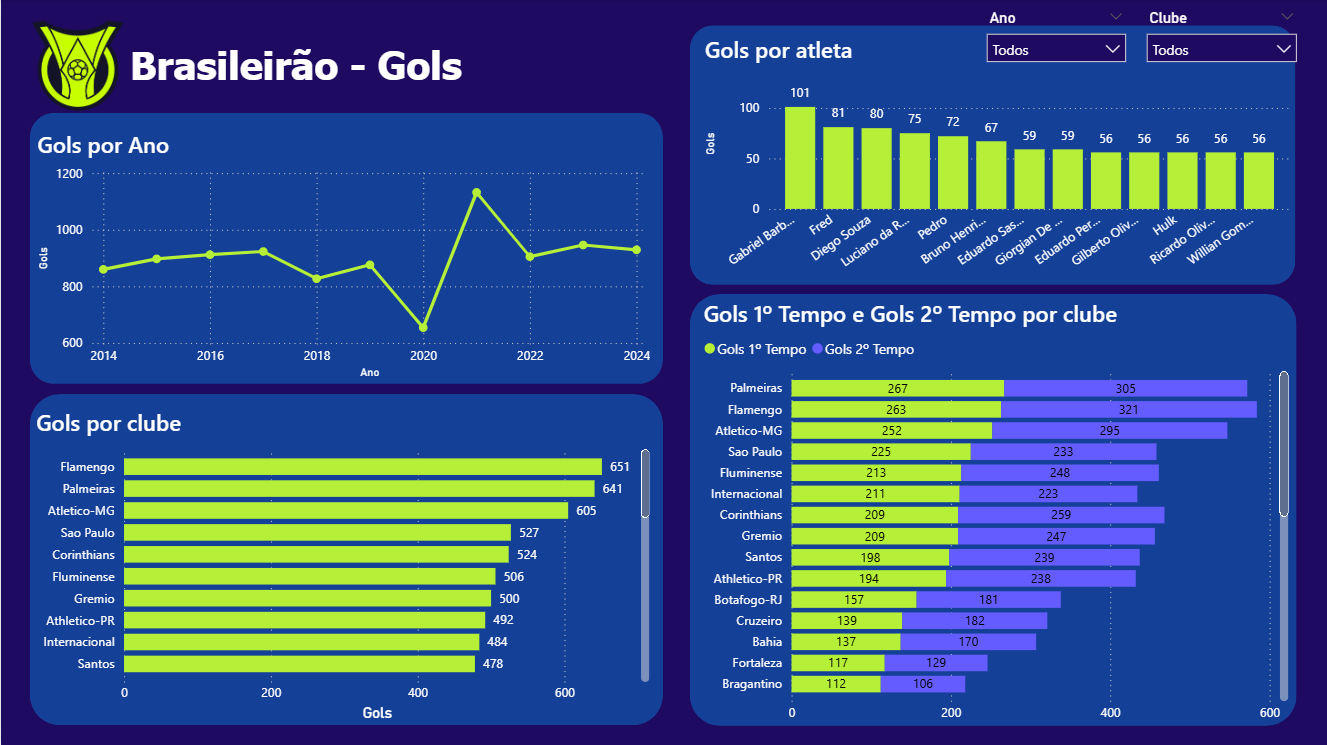

The page's visual inventory and layout, read from the dashboard file:
{"tool":"powerbi","page":{"name":"Gols","canvas":[1280,720],"ordinal":0},"visuals":[{"type":"shape","box":[664.8,284.5,585.9,416.9],"z":0},{"type":"shape","box":[664.8,25.4,584.5,250.7],"z":1000},{"type":"shape","box":[28.2,381.7,611.3,319.7],"z":2000},{"type":"shape","box":[28.2,109.9,611.3,262],"z":3000},{"type":"lineChart","fields":{"Category":["DimData.Ano"],"Y":["Medidas.Total Gols"]},"box":[29.6,125.4,601.4,246.5],"z":4000},{"type":"barChart","fields":{"Y":["Medidas.Gols"],"Category":["DimClube.clube"]},"box":[29,393.3,602,308.8],"z":5000},{"type":"columnChart","fields":{"Y":["Medidas.Gols"],"Category":["DimAtletaGols.atleta"]},"box":[674.7,33.8,574.6,238],"z":6000},{"type":"barChart","fields":{"Y":["Medidas.Gols 1º Tempo","Medidas.Gols 2º Tempo"],"Category":["DimClube.clube"]},"box":[673.2,287.8,574.4,418.3],"z":7000},{"type":"image","box":[29,4.8,90.5,120.6],"z":8000},{"type":"textbox","box":[119.4,36.2,337.8,56.7],"z":9000},{"type":"slicer","fields":{"Values":["DimClube.clube"]},"box":[1095.4,4.8,165.3,68.8],"z":10000},{"type":"slicer","fields":{"Values":["DimData.Ano"]},"box":[941,4.8,154.4,61.5],"z":11000}]}

Visuals, with their boxes in screenshot pixels (x1, y1, x2, y2), scaled from the page's 1280x720 canvas onto the 1327x745 screenshot:
shape: [x1=689, y1=294, x2=1297, y2=726]
shape: [x1=689, y1=26, x2=1295, y2=286]
shape: [x1=29, y1=395, x2=663, y2=726]
shape: [x1=29, y1=114, x2=663, y2=385]
lineChart - DimData.Ano x Medidas.Total Gols: [x1=31, y1=130, x2=654, y2=385]
barChart - Medidas.Gols x DimClube.clube: [x1=30, y1=407, x2=654, y2=726]
columnChart - Medidas.Gols x DimAtletaGols.atleta: [x1=699, y1=35, x2=1295, y2=281]
barChart - Medidas.Gols 1º Tempo x Medidas.Gols 2º Tempo: [x1=698, y1=298, x2=1293, y2=731]
image: [x1=30, y1=5, x2=124, y2=130]
textbox: [x1=124, y1=37, x2=474, y2=96]
slicer - DimClube.clube: [x1=1136, y1=5, x2=1307, y2=76]
slicer - DimData.Ano: [x1=976, y1=5, x2=1136, y2=69]
